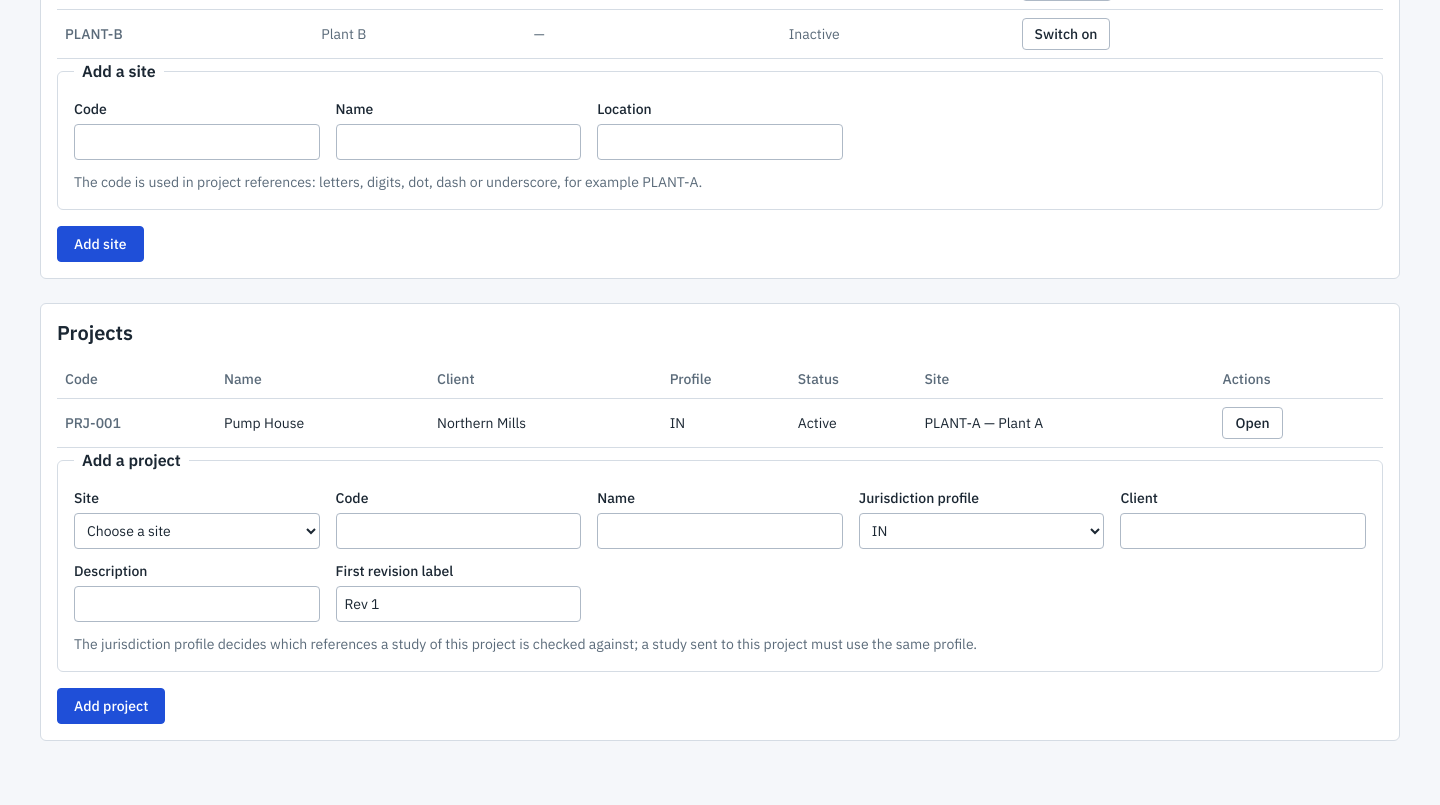
ProjectsPage › works in the open revision of the project when asked to
This screenshot has width=1440, height=805.
(page scrolled)
Click the button "Open" at (1253, 423), box [1222,407,1283,439]
(page scrolled)
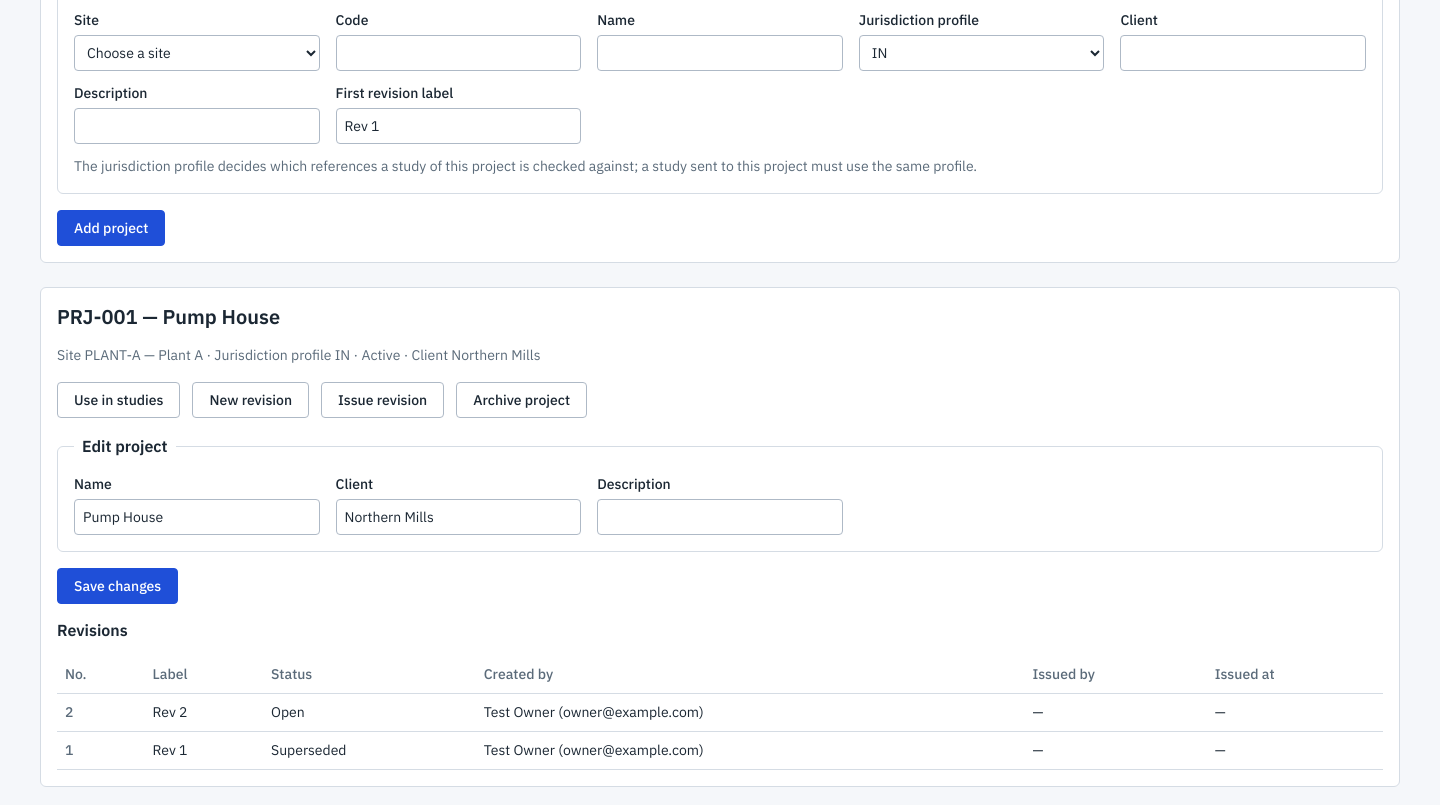
Check: the heading "PRJ-001 — Pump House" is shown, box [57,303,280,330]
Click the button "Use in studies" at (119, 400), box [57,382,180,418]
(page scrolled)
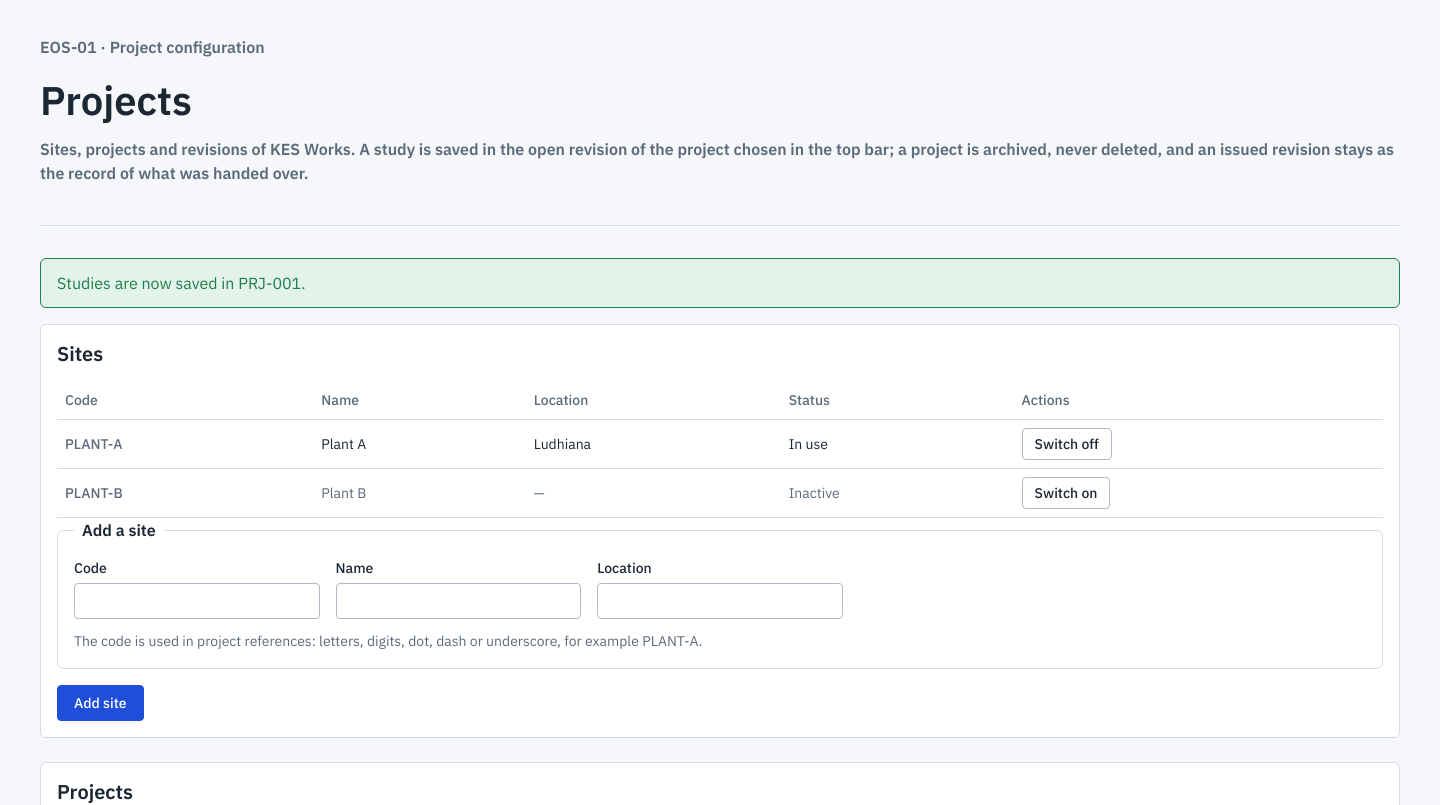
Check: the message reads "Studies are now saved in PRJ-001.", box [57,273,306,293]
